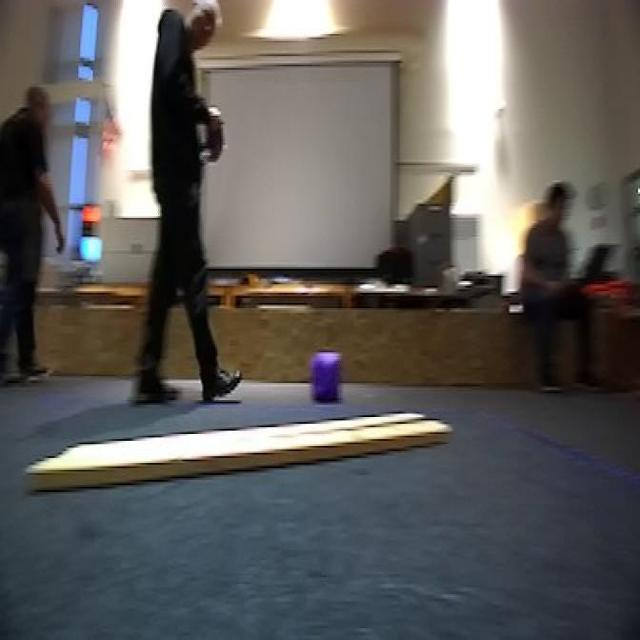frc_cube: (307, 354, 343, 402)
